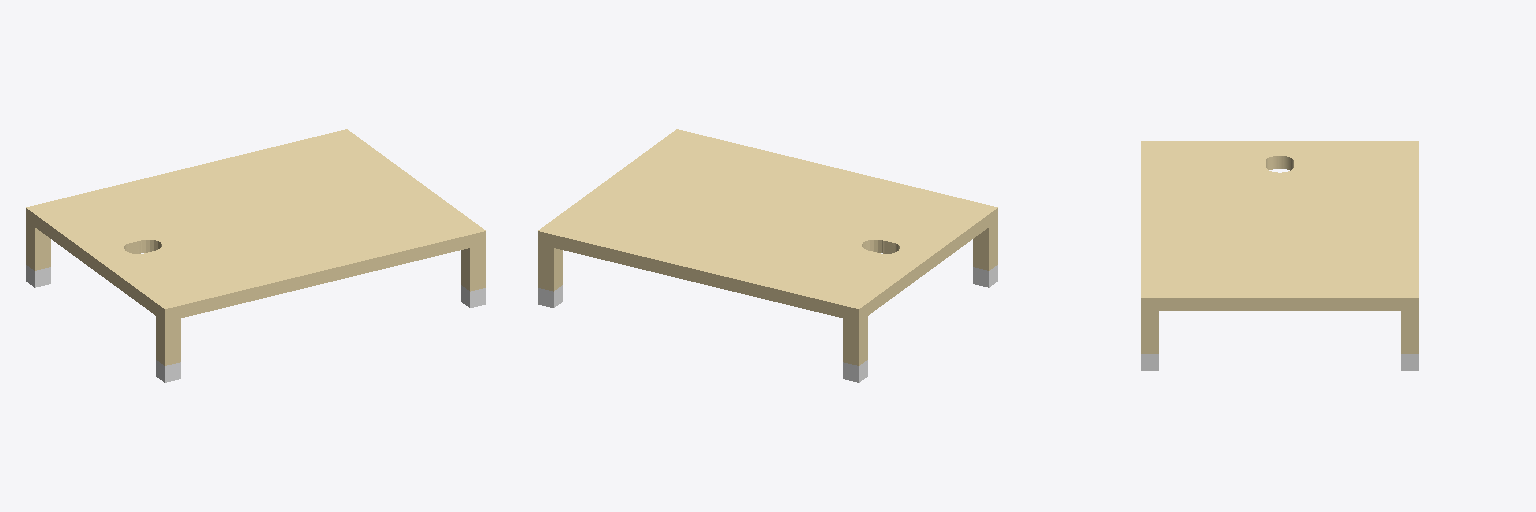
Rendered from tinker.obj.
The picture shows the model from 3 angles: view 1: azimuth 30°, elevation 25°; view 2: azimuth 150°, elevation 25°; view 3: azimuth 270°, elevation 25°; orthographic projection.
Visible parts, largest first — view 1: obj_0; view 2: obj_0; view 3: obj_0.
Boxes of the visible parts, x1,y1,x2,y2 form: obj_0: [26, 129, 485, 382]; obj_0: [538, 129, 997, 382]; obj_0: [1141, 141, 1418, 370].
Size of the model in its own units: 400 by 87.5 by 300.